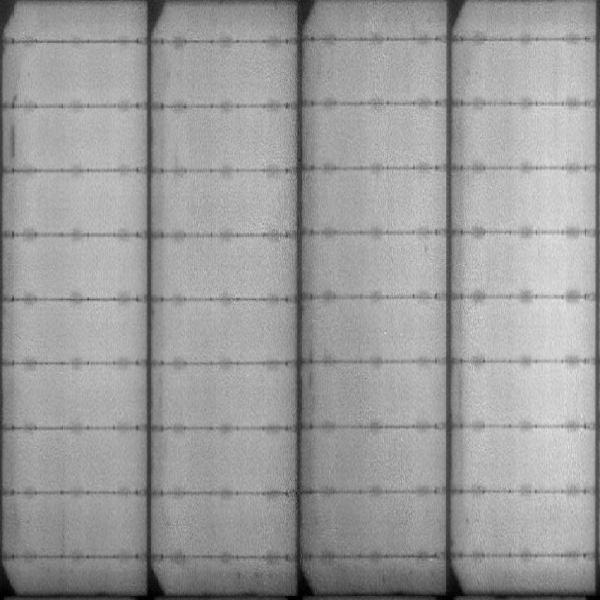scratch: (9, 93, 22, 162)
